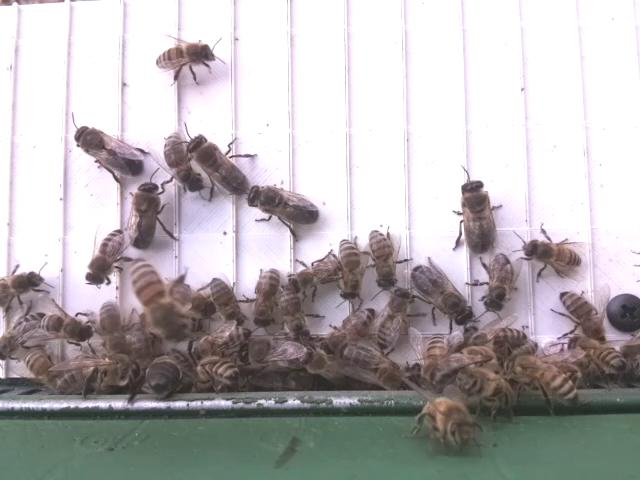Drone: (184, 131, 255, 199), (408, 262, 476, 331), (71, 122, 146, 181), (244, 181, 322, 233), (456, 176, 501, 254), (129, 180, 164, 253)
Worker: (130, 256, 185, 343), (516, 229, 584, 279), (373, 288, 421, 355), (555, 288, 607, 344), (282, 253, 342, 301), (319, 306, 376, 356), (85, 224, 128, 290), (160, 130, 204, 194), (363, 228, 406, 291), (329, 234, 367, 305), (36, 309, 99, 351), (0, 307, 49, 360), (182, 353, 244, 394), (151, 39, 219, 76), (479, 251, 518, 314), (246, 261, 279, 331), (201, 277, 249, 324), (96, 297, 129, 359)
